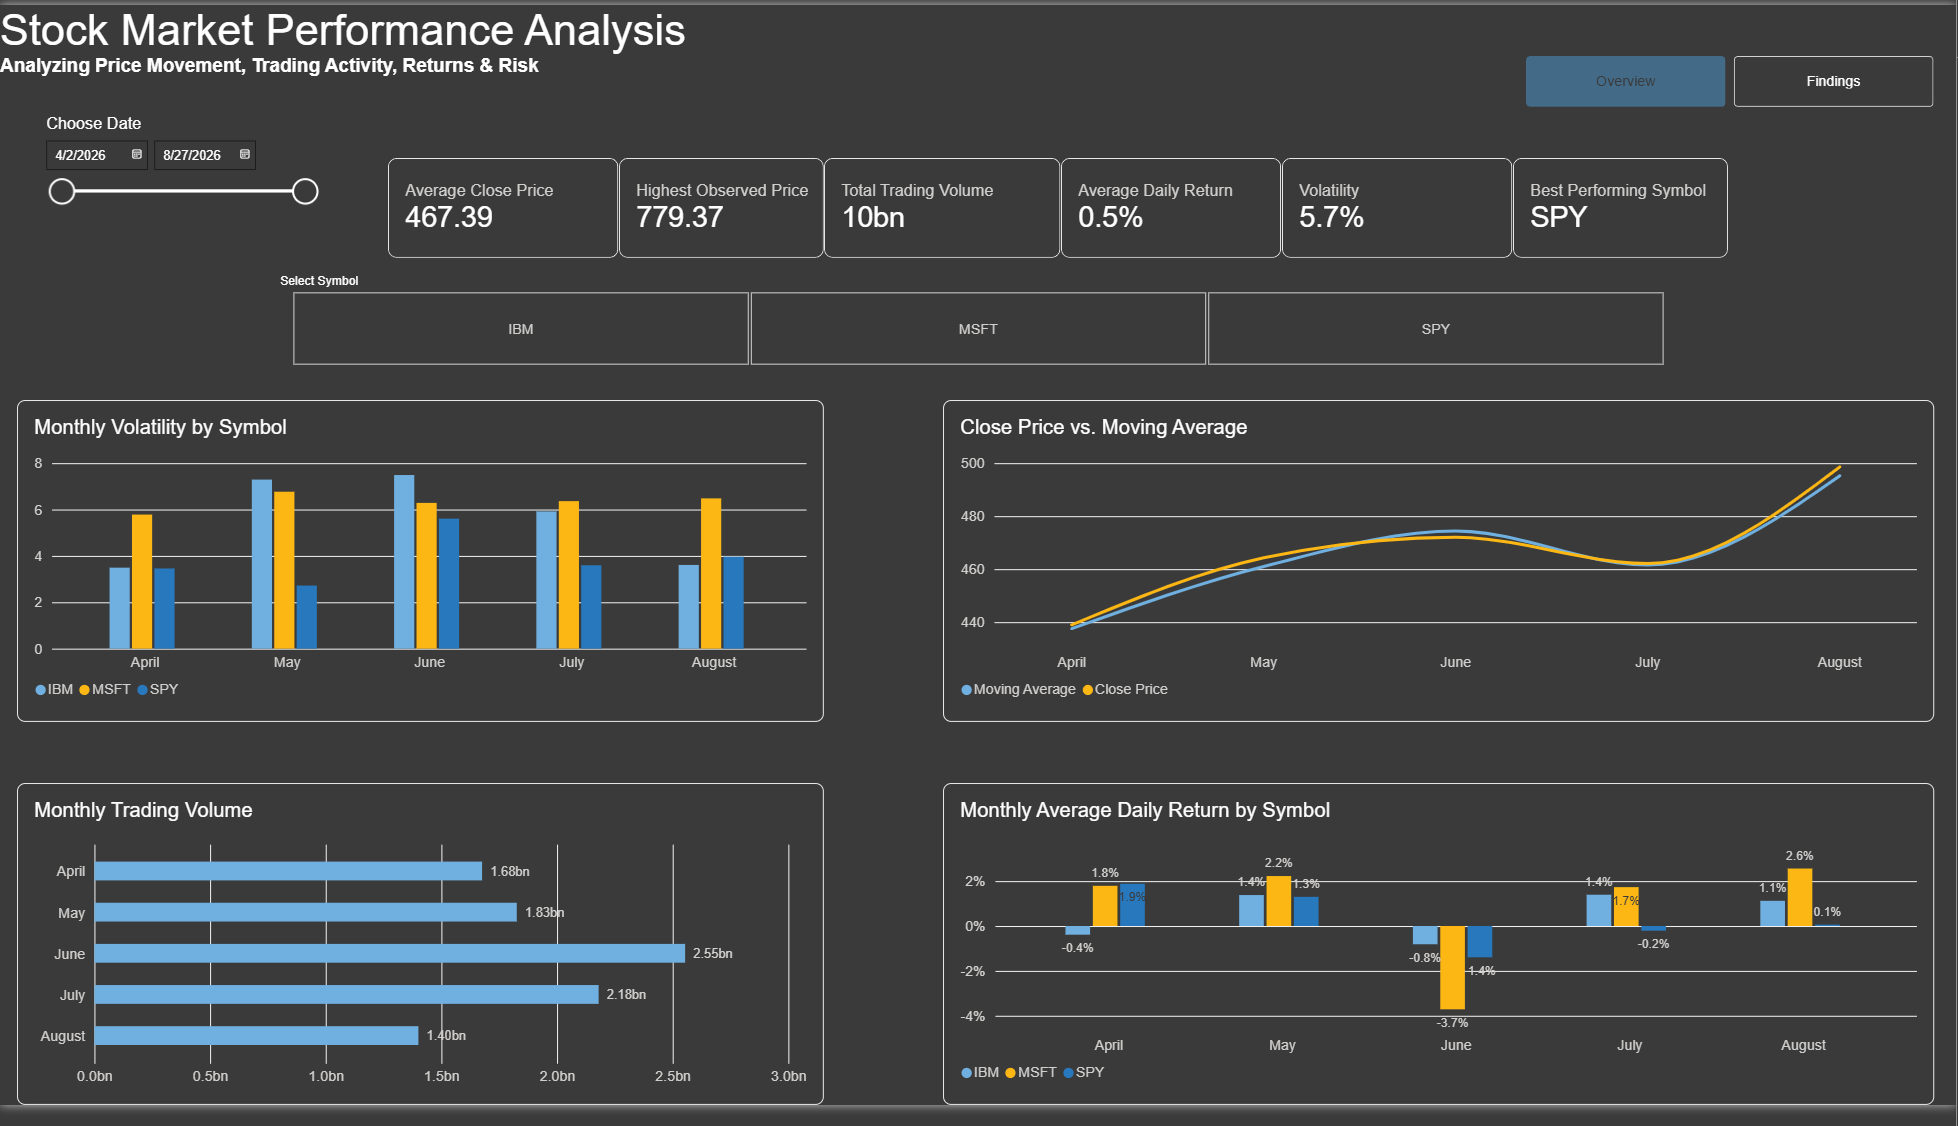

Layout of this report page (visuals, bound fields, positions):
{"tool":"powerbi","page":{"name":"Overview","canvas":[1920,1080],"ordinal":0},"visuals":[{"type":"slicer","fields":{"Values":["public stock_prices.date"]},"box":[37.3,108,280,280],"z":0},{"type":"lineChart","title":"Close Price vs. Moving Average","fields":{"Category":["public stock_prices.date.Variation.Date Hierarchy.Month"],"Y":["Avg(public stock_prices.moving_avg)","Avg(public stock_prices.close)"]},"box":[925.6,387.7,972.8,316.1],"z":1000},{"type":"barChart","title":"Monthly Trading Volume","fields":{"Category":["public stock_prices.date.Variation.Date Hierarchy.Year","public stock_prices.date.Variation.Date Hierarchy.Quarter","public stock_prices.date.Variation.Date Hierarchy.Month","public stock_prices.date.Variation.Date Hierarchy.Day"],"Y":["Sum(public stock_prices.volume)"]},"box":[16.7,763.7,792.1,316.1],"z":2000},{"type":"cardVisual","fields":{"Data":["Avg(public stock_prices.close)"]},"box":[380.9,150.2,226.7,98.2],"z":3000},{"type":"cardVisual","fields":{"Data":["Max(public stock_prices.high)"]},"box":[607.6,150.2,201.2,98.2],"z":4000},{"type":"cardVisual","fields":{"Data":["Sum(public stock_prices.volume)"]},"box":[808.8,150.2,232.6,98.2],"z":5000},{"type":"cardVisual","fields":{"Data":["public stock_prices.Best Performing Symbol"]},"box":[1485.2,150.2,211,98.2],"z":6000},{"type":"slicer","fields":{"Values":["public stock_prices.symbol"]},"box":[267,264,1385,91.3],"z":7000},{"type":"cardVisual","fields":{"Data":["public stock_prices.Volatility"]},"box":[1258.4,150.2,226.7,98.2],"z":8000},{"type":"cardVisual","fields":{"Data":["Avg(public stock_prices.daily_change)"]},"box":[1041.5,150.2,216.9,98.2],"z":9000},{"type":"clusteredColumnChart","title":"Monthly Average Daily Return by Symbol","fields":{"Category":["public stock_prices.date.Variation.Date Hierarchy.Month"],"Y":["Avg(public stock_prices.daily_change)"],"Series":["public stock_prices.symbol"]},"box":[925.6,763.7,972.8,316.1],"z":10000},{"type":"clusteredColumnChart","title":"Monthly Volatility by Symbol","fields":{"Category":["public stock_prices.date.Variation.Date Hierarchy.Month"],"Y":["public stock_prices.Volatility"],"Series":["public stock_prices.symbol"]},"box":[16.7,387.7,792.1,316.1],"z":11000},{"type":"textbox","box":[0,0,764.7,150.2],"z":12000},{"type":"pageNavigator","box":[1497.9,50.1,400,50],"z":13000}]}

Visuals, with their boxes in screenshot pixels (x1, y1, x2, y2), scaled from the page's 1920x1080 canvas onto the 1958x1126 screenshot:
slicer - public stock_prices.date: <region>38, 113, 324, 405</region>
"Close Price vs. Moving Average" lineChart: <region>944, 404, 1936, 734</region>
"Monthly Trading Volume" barChart: <region>17, 796, 825, 1125</region>
cardVisual - Avg(public stock_prices.close): <region>388, 157, 620, 259</region>
cardVisual - Max(public stock_prices.high): <region>620, 157, 825, 259</region>
cardVisual - Sum(public stock_prices.volume): <region>825, 157, 1062, 259</region>
cardVisual - public stock_prices.Best Performing Symbol: <region>1515, 157, 1730, 259</region>
slicer - public stock_prices.symbol: <region>272, 275, 1685, 370</region>
cardVisual - public stock_prices.Volatility: <region>1283, 157, 1514, 259</region>
cardVisual - Avg(public stock_prices.daily_change): <region>1062, 157, 1283, 259</region>
"Monthly Average Daily Return by Symbol" clusteredColumnChart: <region>944, 796, 1936, 1125</region>
"Monthly Volatility by Symbol" clusteredColumnChart: <region>17, 404, 825, 734</region>
textbox: <region>0, 0, 780, 157</region>
pageNavigator: <region>1528, 52, 1935, 104</region>
